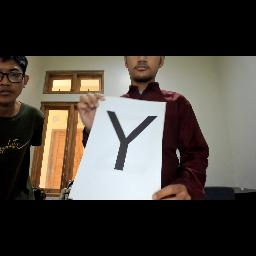y: (100, 106, 166, 172)
